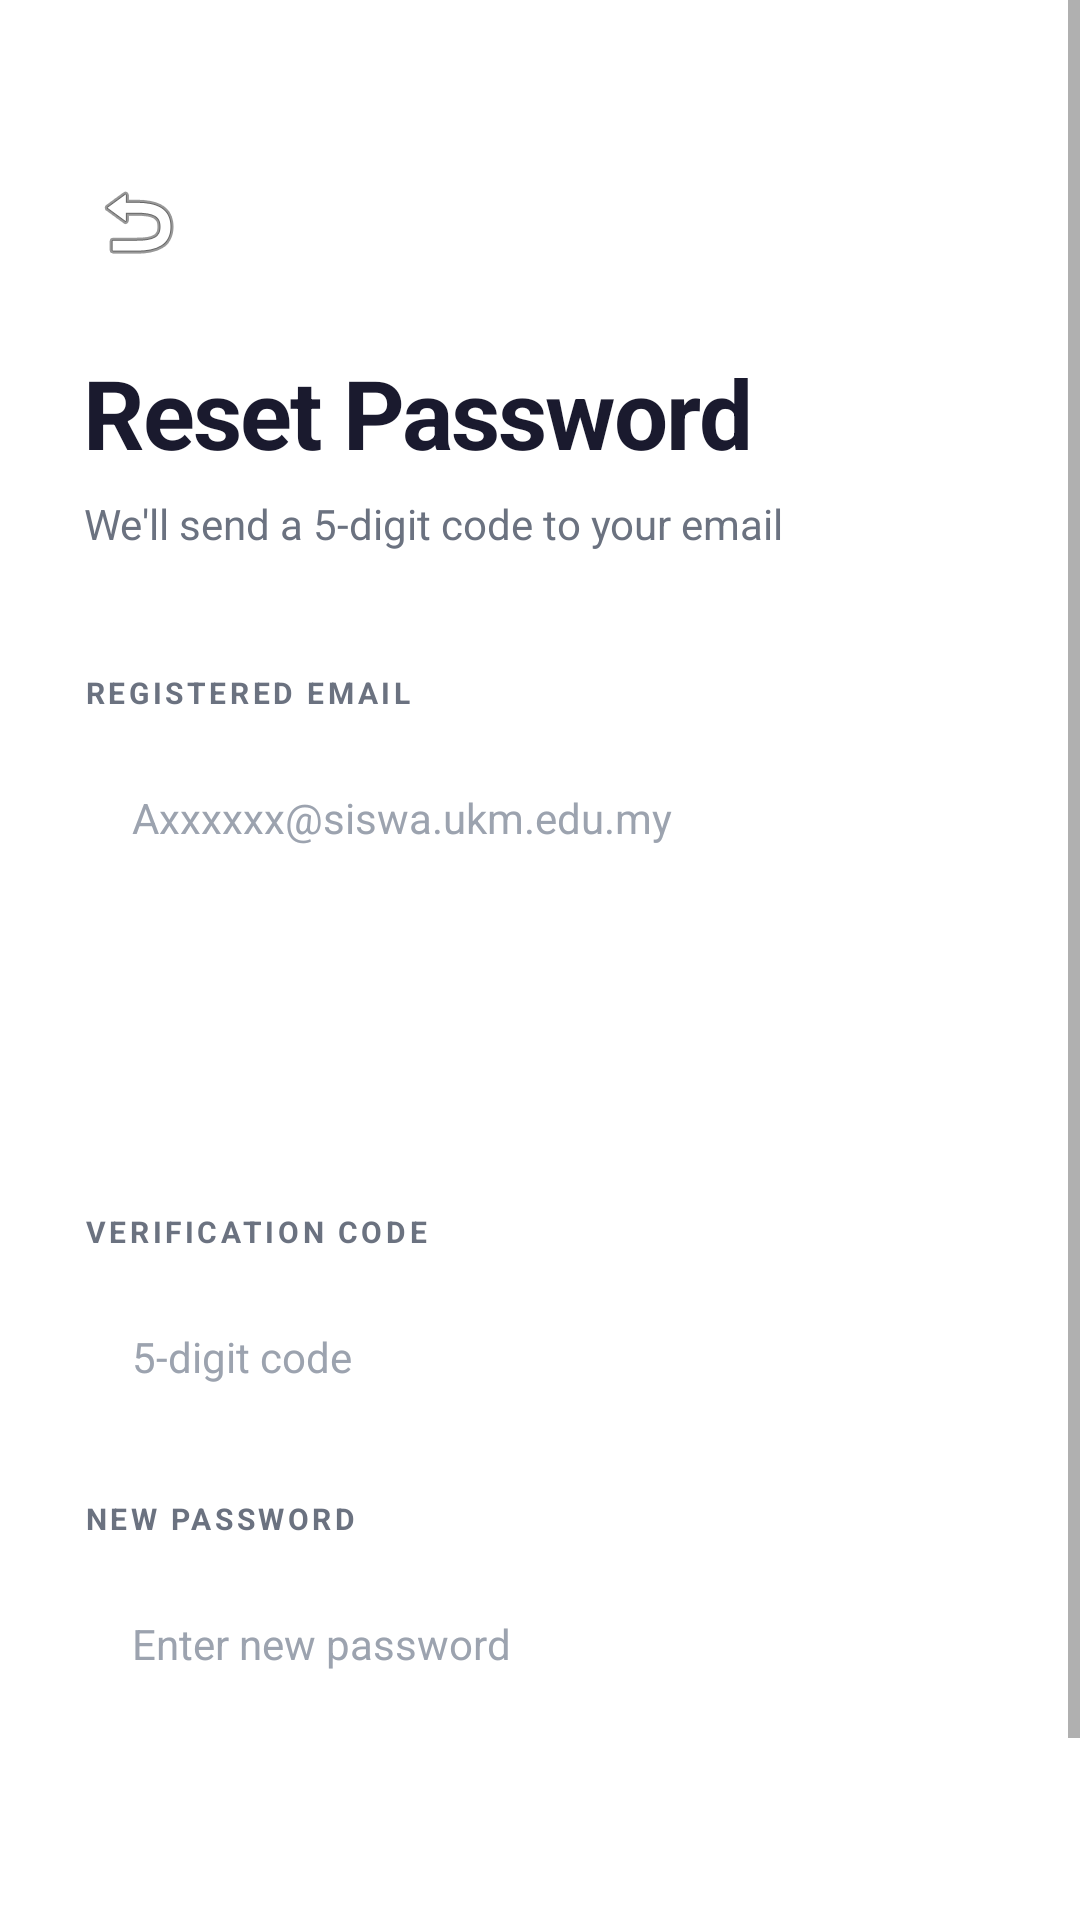

Icon bounding boxes for this 1080×1920 phone screenshot, format (x1, y1, x2, y2):
Back: (105, 191, 174, 254)
